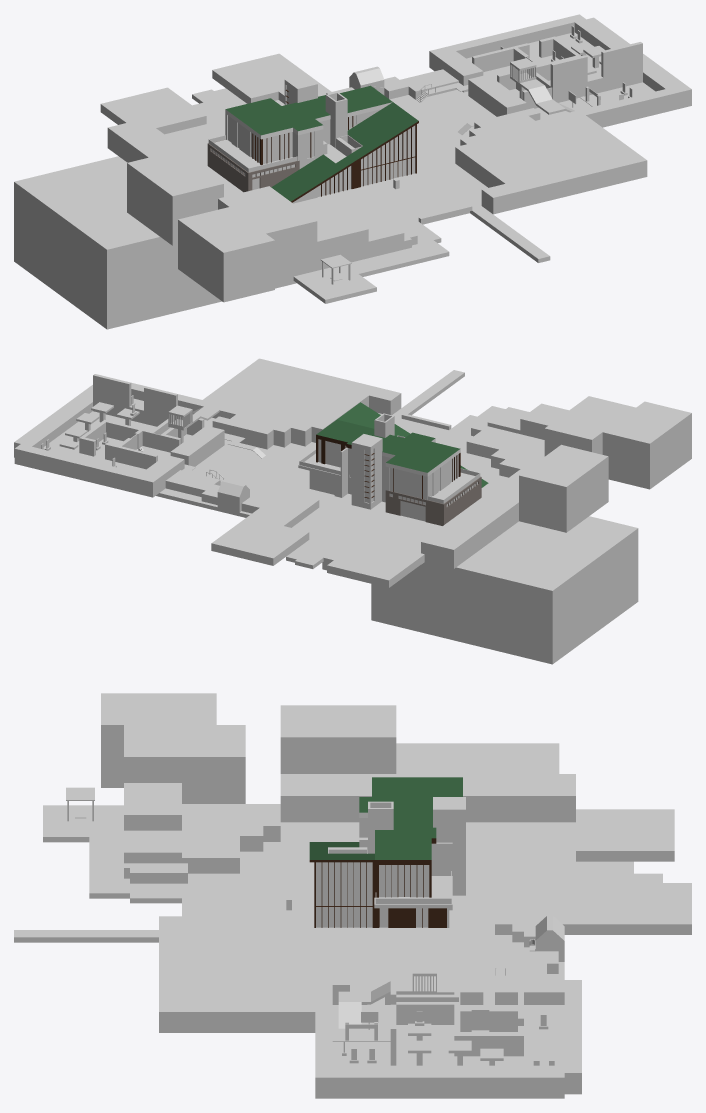
Rendered from FreelancerHouse1.glb.
3 views of the same model, one above another, from view 1: azimuth 30°, elevation 25°; view 2: azimuth 150°, elevation 25°; view 3: azimuth 270°, elevation 25° (orthographic). The views are drawn at different scales.
Parts seen in each view (by area): view 1: Cube.510, Cube.600, Cube.458, Cube.605, Cube.604, Cube.465, Cube.459, Cube.512, Cube.509, Cube.473, Cube.472, Cube.464 (+34 smaller); view 2: Cube.606, Cube.605, Cube.600, Cube.465, Cube.458, Cube.510, Cube.509, Cube.464, Cube.459, Cube.472, Cube.473, Cube.501 (+36 smaller); view 3: Cube.510, Cube.464, Cube.503, Cube.459, Cube.509, Cube.465, Cube.502, Cube.473, Cube.458, Cube.472, Cube.605, Cube.787 (+43 smaller).
Part boxes in pixels (bbox=[...]): Cube.510: bbox=[455, 115, 635, 187]; Cube.600: bbox=[15, 184, 105, 328]; Cube.458: bbox=[178, 207, 274, 302]; Cube.605: bbox=[14, 156, 161, 251]; Cube.604: bbox=[106, 238, 296, 329]; Cube.465: bbox=[127, 150, 223, 245]; Cube.459: bbox=[218, 186, 317, 280]; Cube.512: bbox=[481, 152, 647, 214]; Cube.509: bbox=[390, 89, 496, 166]; Cube.473: bbox=[100, 87, 206, 134]; Cube.472: bbox=[212, 53, 317, 103]; Cube.464: bbox=[107, 119, 242, 196]; Cube.606: bbox=[371, 562, 553, 664]; Cube.605: bbox=[455, 516, 638, 592]; Cube.600: bbox=[553, 530, 637, 663]; Cube.465: bbox=[519, 444, 608, 532]; Cube.458: bbox=[602, 401, 691, 489]; Cube.510: bbox=[203, 366, 368, 442]; Cube.509: bbox=[156, 439, 315, 517]; Cube.464: bbox=[421, 463, 533, 568]; Cube.459: bbox=[544, 396, 635, 456]; Cube.472: bbox=[211, 517, 309, 565]; Cube.473: bbox=[327, 539, 424, 587]; Cube.501: bbox=[14, 444, 140, 492]; Cube.510: bbox=[188, 931, 315, 1032]; Cube.464: bbox=[280, 774, 575, 822]; Cube.503: bbox=[315, 1065, 564, 1098]; Cube.459: bbox=[124, 725, 245, 803]; Cube.509: bbox=[332, 927, 564, 987]; Cube.465: bbox=[280, 705, 396, 773]; Cube.502: bbox=[332, 1005, 564, 1065]; Cube.473: bbox=[576, 809, 674, 861]; Cube.458: bbox=[101, 693, 216, 787]; Cube.472: bbox=[593, 883, 691, 934]; Cube.605: bbox=[396, 743, 559, 773]; Cube.787: bbox=[240, 822, 309, 890].
Bounding box in the file's own units: 147 × 37.3 × 117.
